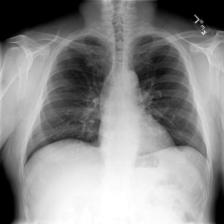normal: (19, 32, 215, 178)
